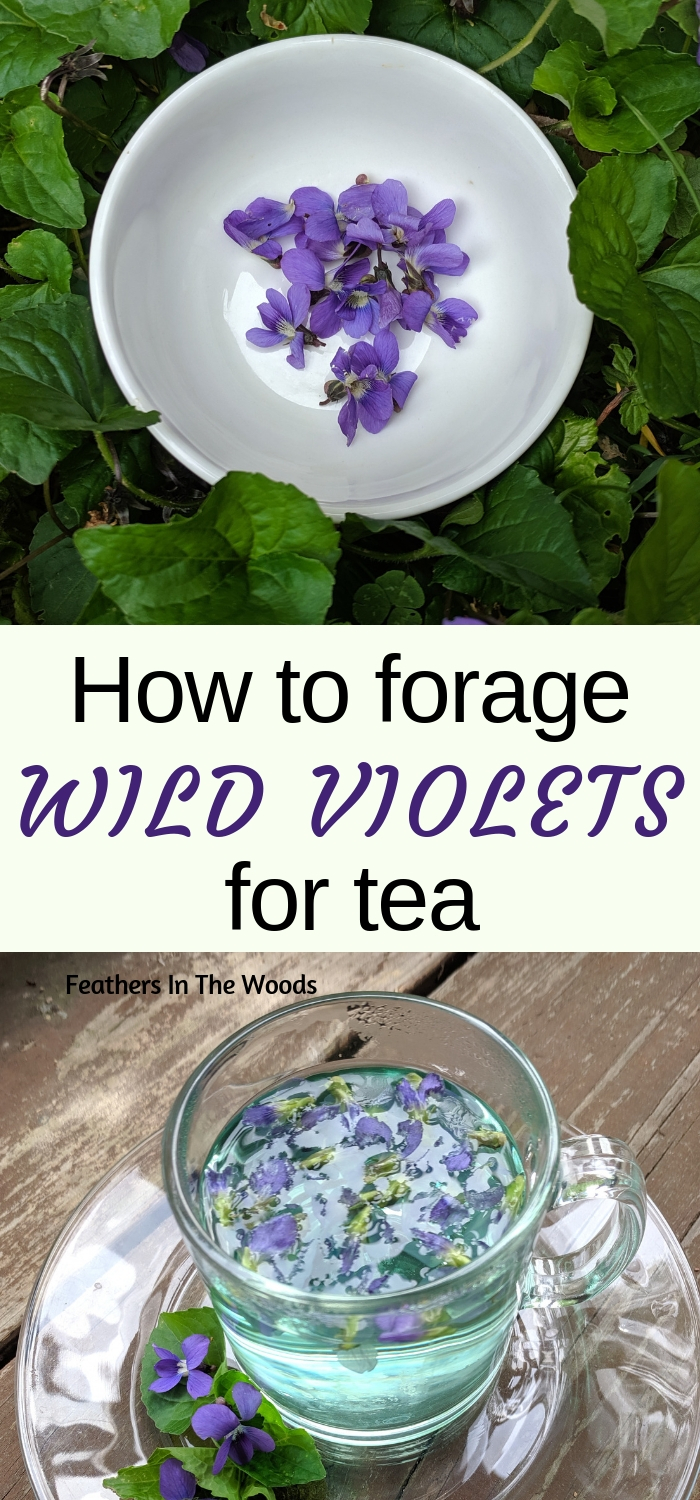violet: (205, 148, 482, 413), (185, 1394, 299, 1472), (147, 1327, 228, 1407), (151, 1458, 196, 1500)
